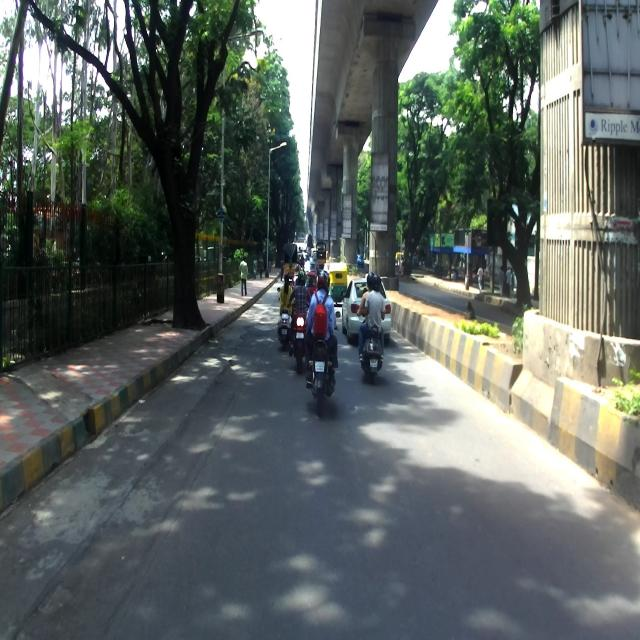motorcycle: (303, 307, 340, 413), (286, 299, 315, 372)
scooter: (358, 308, 387, 384)
